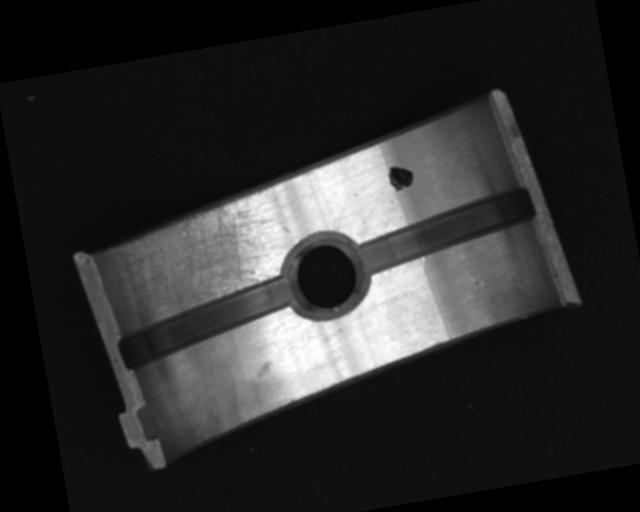blot: (386, 162, 415, 193)
bruise: (254, 359, 275, 380)
gap: (110, 272, 309, 373), (351, 185, 543, 276)
hole: (283, 230, 369, 322)
nick: (401, 255, 436, 325), (330, 195, 353, 234)
scratch: (94, 180, 290, 330)
